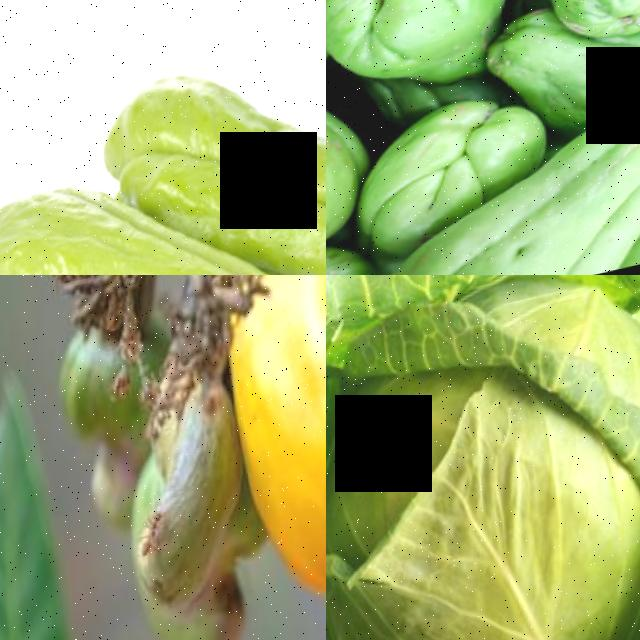cabbage: (326, 275, 640, 640)
cashew: (109, 368, 274, 604)
chayote: (132, 0, 326, 234), (326, 73, 551, 259), (371, 126, 640, 275), (514, 18, 640, 150), (0, 190, 186, 275), (326, 0, 507, 87)
